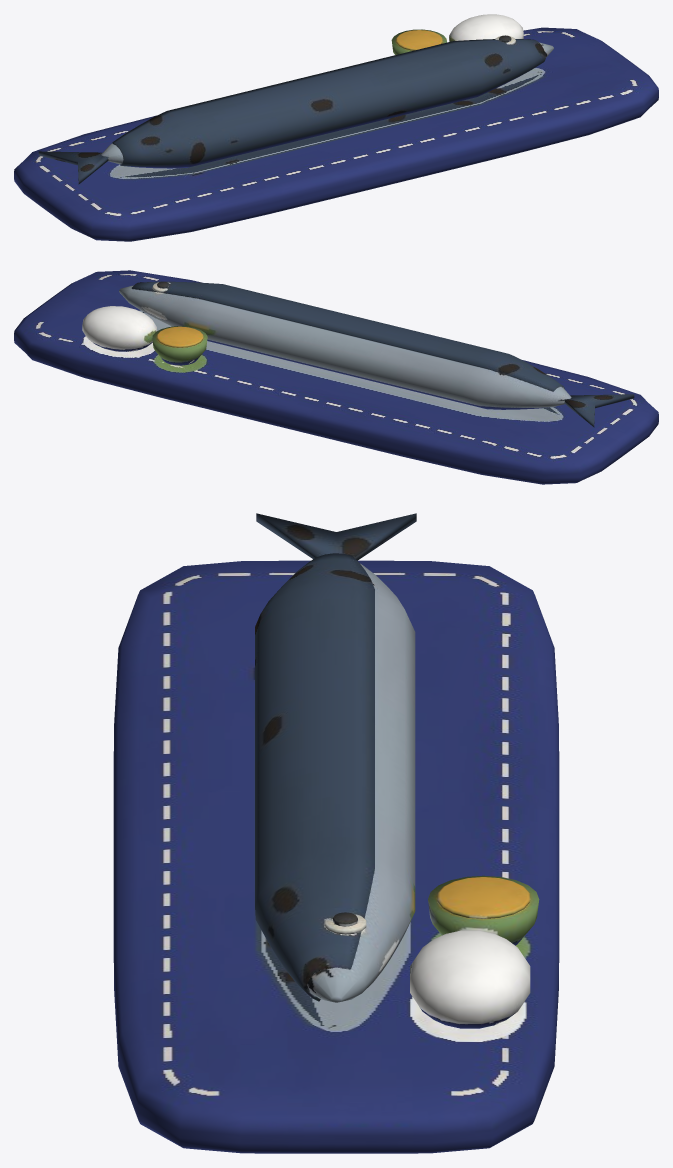
File: sanma.glb
3 renders of one model, top to bottom at view 1: azimuth 30°, elevation 25°; view 2: azimuth 150°, elevation 25°; view 3: azimuth 270°, elevation 25°, orthographic. The views are drawn at different scales.
Visible parts, largest first — view 1: prop_sanma_felt; view 2: prop_sanma_felt; view 3: prop_sanma_felt.
Boxes of the visible parts, x1,y1,x2,y2 form: prop_sanma_felt: (14,14,658,241); prop_sanma_felt: (14,270,658,484); prop_sanma_felt: (113,513,559,1153).
Size of the model in its own units: 0.45 by 0.054 by 0.15.
1 material, 1 textured.
